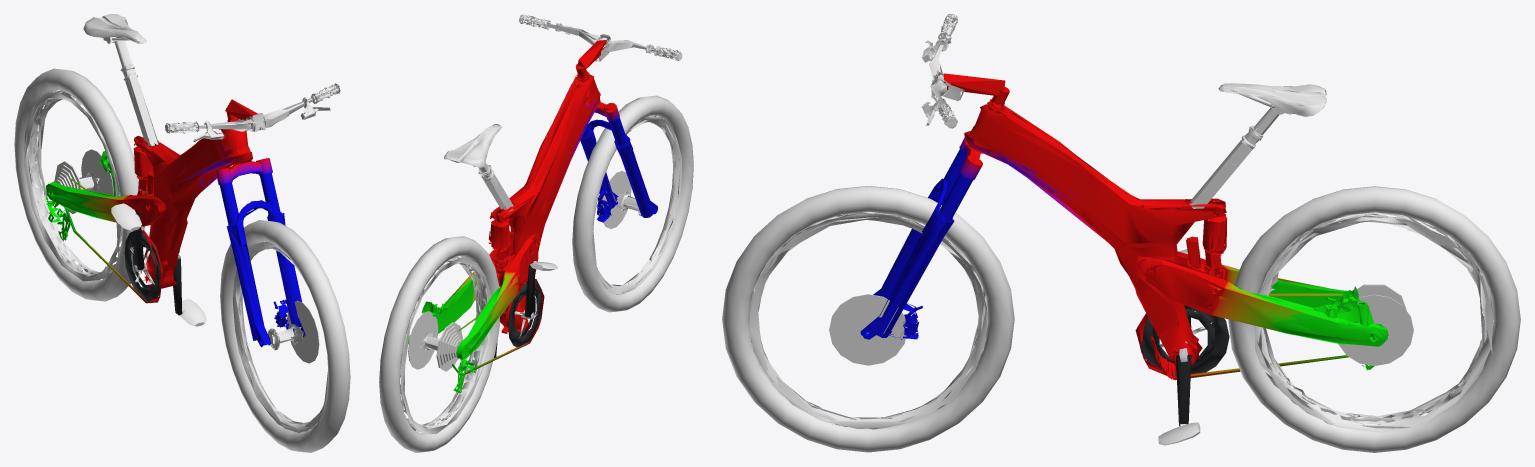
File: mtb_lod1.glb
3 views of the same model, side by side, from view 1: azimuth 30°, elevation 25°; view 2: azimuth 150°, elevation 25°; view 3: azimuth 270°, elevation 25° (orthographic). The views are drawn at different scales.
Parts seen in each view (by area): view 1: frame, wheel_rear, wheel_front, saddle, cockpit, crankset, pedal_R, pedal_L; view 2: frame, wheel_rear, wheel_front, saddle, crankset, cockpit; view 3: frame, wheel_rear, wheel_front, saddle, crankset, cockpit.
Part boxes in pixels (<box>): frame: <box>46,99,305,347</box>; wheel_rear: <box>14,68,144,301</box>; wheel_front: <box>220,220,350,452</box>; saddle: <box>83,14,158,148</box>; cockpit: <box>165,83,340,142</box>; crankset: <box>124,211,182,315</box>; pedal_R: <box>111,203,141,230</box>; pedal_L: <box>180,299,206,326</box>; frame: <box>408,40,657,392</box>; wheel_rear: <box>379,236,499,452</box>; wheel_front: <box>572,95,693,312</box>; saddle: <box>444,124,513,212</box>; crankset: <box>494,262,542,357</box>; cockpit: <box>519,14,682,61</box>; frame: <box>860,73,1388,380</box>; wheel_rear: <box>1228,186,1520,452</box>; wheel_front: <box>722,186,1014,452</box>; saddle: <box>1189,83,1326,208</box>; crankset: <box>1138,305,1229,425</box>; cockpit: <box>921,14,964,128</box>.
Size of the model in its own units: 0.5589 by 0.9804 by 1.83.
